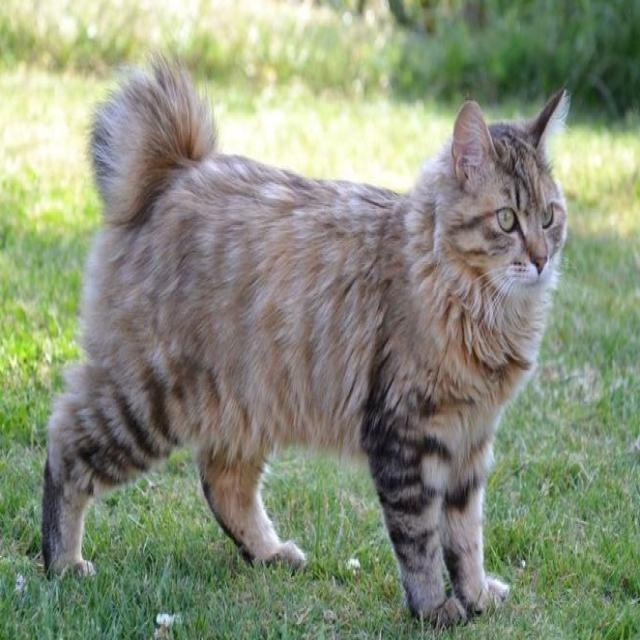American Bobtail: (37, 52, 573, 638)
